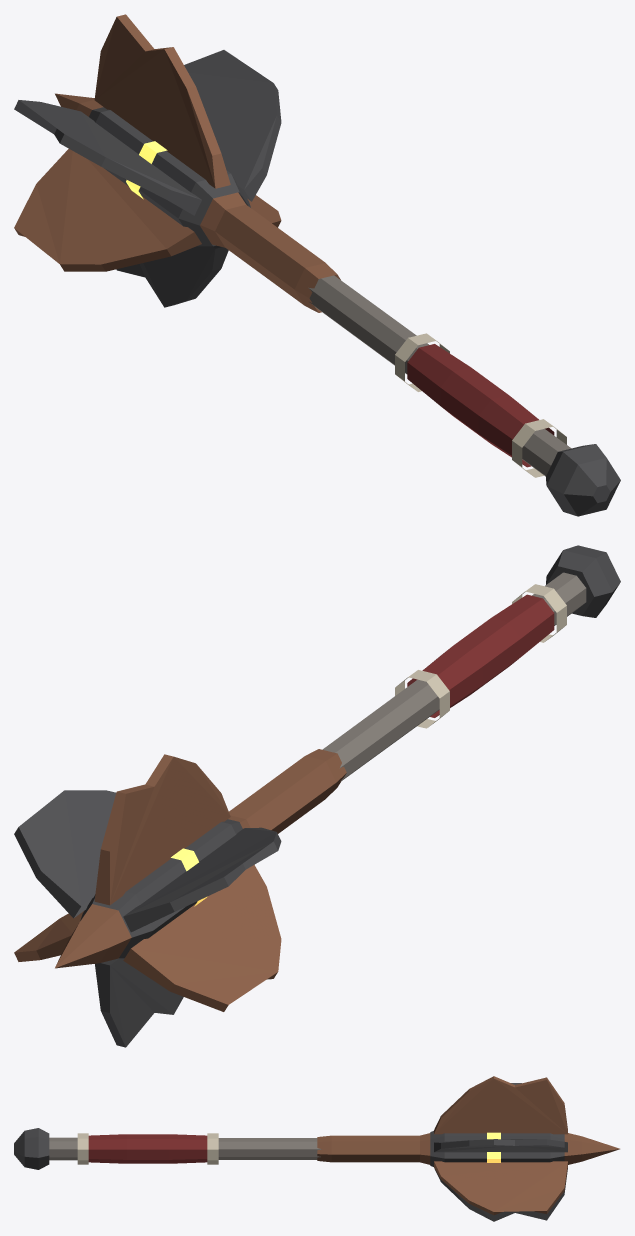
File: held-mace.glb
3 renders of one model, top to bottom at view 1: azimuth 30°, elevation 25°; view 2: azimuth 150°, elevation 25°; view 3: azimuth 270°, elevation 25°, orthographic. The views are drawn at different scales.
Parts seen in each view (by area): view 1: flange_3, flange_1, flange_0, haft_shod, grip, flange_2, haft, head_core, pommel, flange_4, grip_ring_lower, grip_ring_upper; view 2: flange_3, flange_1, flange_0, grip, haft, flange_2, haft_shod, flange_4, head_core, head_spike, pommel, flange_5 (+2 smaller); view 3: flange_1, flange_5, grip, haft_shod, haft, head_core, flange_0, pommel, head_spike, flange_4, grip_ring_lower, grip_ring_upper (+1 smaller).
Boxes of the visible parts, x1,y1,x2,y2 form: flange_3: [14, 149, 201, 271]; flange_1: [94, 14, 230, 188]; flange_0: [184, 50, 281, 201]; haft_shod: [200, 192, 340, 312]; grip: [407, 344, 554, 467]; flange_2: [14, 100, 201, 215]; haft: [308, 275, 571, 476]; head_core: [89, 107, 250, 246]; pommel: [546, 444, 620, 516]; flange_4: [116, 245, 228, 307]; grip_ring_lower: [512, 419, 566, 477]; grip_ring_upper: [395, 333, 449, 391]; flange_3: [123, 865, 281, 1011]; flange_1: [94, 754, 230, 905]; flange_0: [14, 790, 116, 918]; grip: [407, 594, 554, 717]; haft: [322, 572, 586, 781]; flange_2: [123, 827, 281, 932]; haft_shod: [228, 749, 346, 833]; flange_4: [95, 958, 183, 1047]; head_core: [80, 819, 242, 958]; head_spike: [55, 904, 131, 968]; pommel: [546, 545, 620, 617]; flange_5: [14, 911, 83, 961]; flange_1: [434, 1076, 567, 1134]; flange_5: [434, 1161, 567, 1215]; grip: [88, 1134, 207, 1163]; haft_shod: [317, 1133, 430, 1164]; haft: [49, 1137, 321, 1160]; head_core: [430, 1131, 564, 1166]; flange_0: [434, 1139, 567, 1152]; pommel: [14, 1128, 49, 1169]; head_spike: [564, 1133, 619, 1164]; flange_4: [434, 1167, 567, 1221]; grip_ring_lower: [77, 1133, 88, 1164]; grip_ring_upper: [207, 1133, 218, 1164].
Size of what is drawn, in the model's own units: 0.1982 by 0.224 by 0.86.
